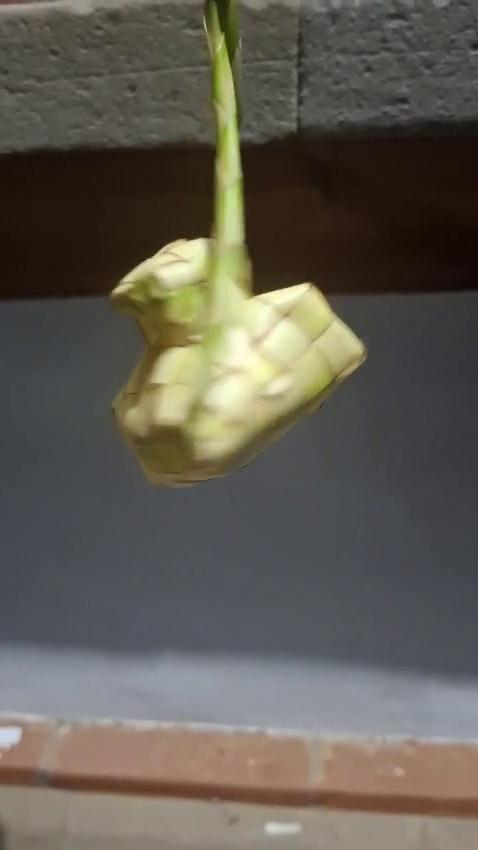Tipat Gong: (108, 0, 368, 489)
